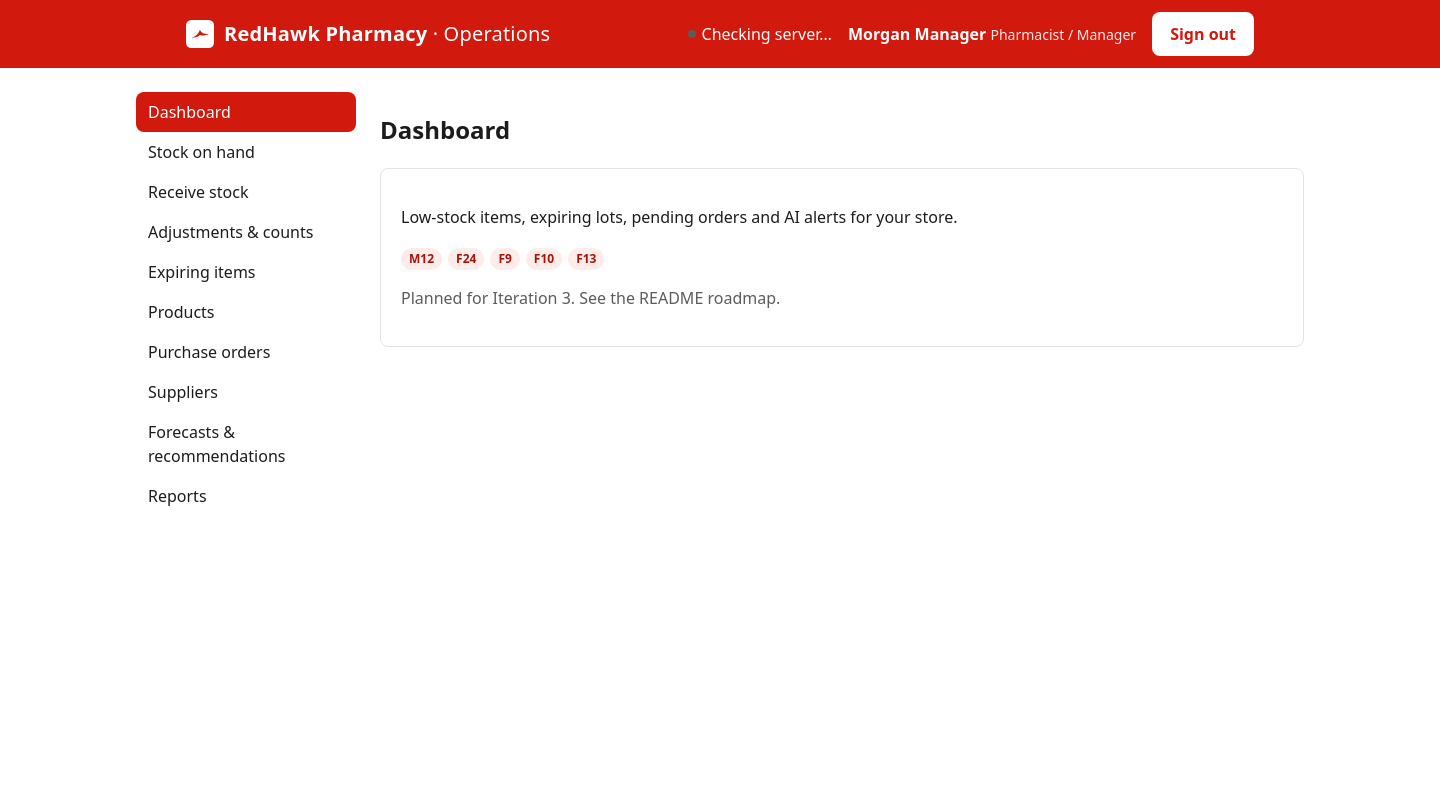
Test: staff sign-in (F1) › signing out clears the session and revokes it on the server
Click the button "Sign out": (1203,34) [1152,12,1254,56]
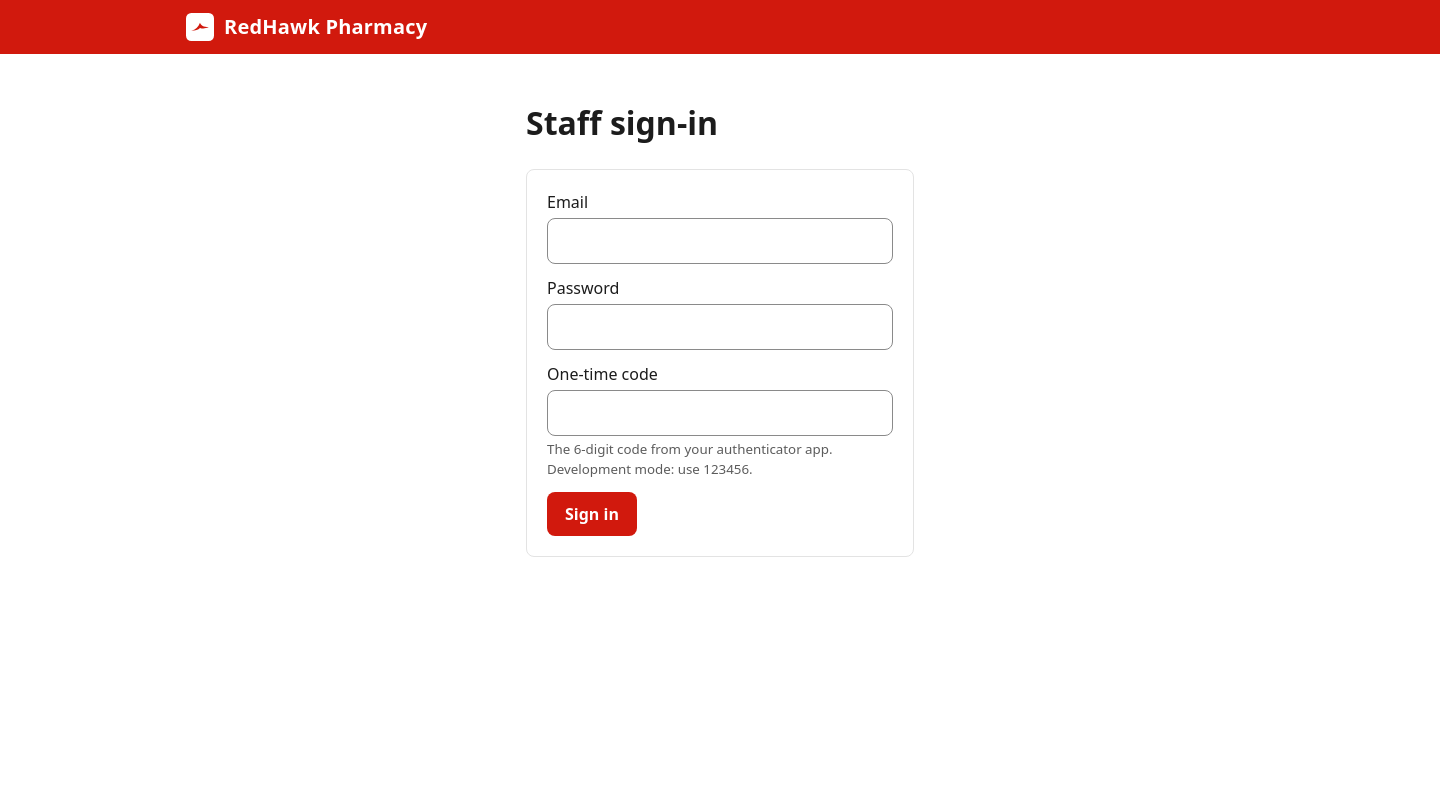
Expected: the heading "Staff sign-in" is shown, [526,101,718,144]
